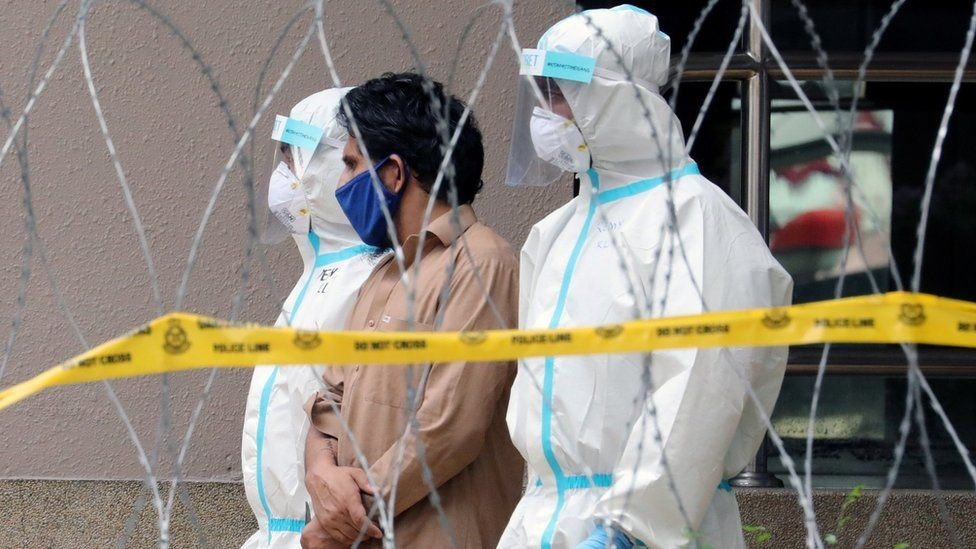Coverall: (501, 1, 799, 548), (234, 74, 426, 549)
Face Shield: (500, 45, 616, 190), (254, 111, 331, 249)
with_mask: (331, 145, 415, 254), (526, 84, 600, 177), (264, 146, 320, 238)
